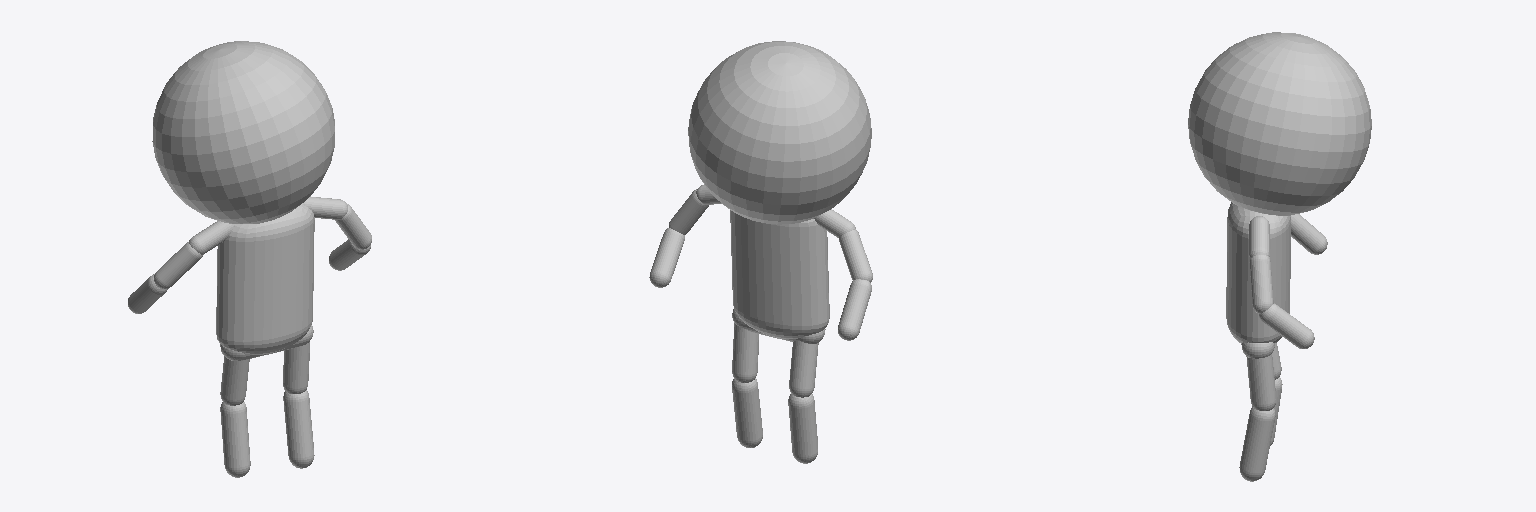
File: Stickman_000062.obj
3 renders of one model, left to right at view 1: azimuth 30°, elevation 25°; view 2: azimuth 150°, elevation 25°; view 3: azimuth 270°, elevation 25°, orthographic.
Parts seen in each view (by area): view 1: Head_Sphere.001, Body_Roundcube.002, LowerLegLeft_Roundcube.013, LowerLegRight_Roundcube.011, UpperLegLeft_Roundcube.012, UpperLegRight_Roundcube.010, UpperArmRight_Roundcube.015, ShoulderRight_Roundcube.014, UpperArmLeft_Roundcube.018, LowerArmRight_Roundcube.016, ShoulderLeft_Roundcube.017, LowerArmLeft_Roundcube.019; view 2: Head_Sphere.001, Body_Roundcube.002, LowerLegRight_Roundcube.011, LowerLegLeft_Roundcube.013, UpperLegRight_Roundcube.010, LowerArmRight_Roundcube.016, UpperLegLeft_Roundcube.012, LowerArmLeft_Roundcube.019, UpperArmRight_Roundcube.015, UpperArmLeft_Roundcube.018, ShoulderRight_Roundcube.014; view 3: Head_Sphere.001, Body_Roundcube.002, LowerLegLeft_Roundcube.013, UpperLegLeft_Roundcube.012, LowerArmLeft_Roundcube.019, UpperArmLeft_Roundcube.018, LowerArmRight_Roundcube.016, ShoulderLeft_Roundcube.017.
Boxes of the visible parts, x1=… form: Head_Sphere.001: x1=152, y1=41, x2=334, y2=223; Body_Roundcube.002: x1=216, y1=203, x2=314, y2=354; LowerLegLeft_Roundcube.013: x1=283, y1=390, x2=314, y2=468; LowerLegRight_Roundcube.011: x1=220, y1=402, x2=250, y2=477; UpperLegLeft_Roundcube.012: x1=283, y1=342, x2=309, y2=393; UpperLegRight_Roundcube.010: x1=220, y1=356, x2=249, y2=405; UpperArmRight_Roundcube.015: x1=154, y1=242, x2=202, y2=288; ShoulderRight_Roundcube.014: x1=189, y1=221, x2=235, y2=254; UpperArmLeft_Roundcube.018: x1=335, y1=204, x2=371, y2=249; LowerArmRight_Roundcube.016: x1=128, y1=274, x2=167, y2=313; ShoulderLeft_Roundcube.017: x1=303, y1=196, x2=347, y2=219; LowerArmLeft_Roundcube.019: x1=329, y1=239, x2=370, y2=270; Head_Sphere.001: x1=688, y1=41, x2=871, y2=224; Body_Roundcube.002: x1=730, y1=210, x2=829, y2=338; LowerLegRight_Roundcube.011: x1=788, y1=394, x2=817, y2=463; LowerLegLeft_Roundcube.013: x1=732, y1=378, x2=762, y2=447; UpperLegRight_Roundcube.010: x1=789, y1=341, x2=818, y2=397; LowerArmRight_Roundcube.016: x1=838, y1=279, x2=871, y2=340; UpperLegLeft_Roundcube.012: x1=732, y1=323, x2=758, y2=382; LowerArmLeft_Roundcube.019: x1=649, y1=228, x2=684, y2=287; UpperArmRight_Roundcube.015: x1=839, y1=229, x2=872, y2=282; UpperArmLeft_Roundcube.018: x1=669, y1=189, x2=708, y2=234; ShoulderRight_Roundcube.014: x1=814, y1=209, x2=855, y2=237; Head_Sphere.001: x1=1188, y1=32, x2=1371, y2=215; Body_Roundcube.002: x1=1226, y1=202, x2=1290, y2=343; LowerLegLeft_Roundcube.013: x1=1239, y1=407, x2=1275, y2=481; UpperLegLeft_Roundcube.012: x1=1246, y1=354, x2=1275, y2=410; LowerArmLeft_Roundcube.019: x1=1259, y1=303, x2=1314, y2=348; UpperArmLeft_Roundcube.018: x1=1249, y1=255, x2=1273, y2=313; LowerArmRight_Roundcube.016: x1=1291, y1=214, x2=1327, y2=254; ShoulderLeft_Roundcube.017: x1=1249, y1=216, x2=1269, y2=257.
Size of the model in its own units: 6.78 by 12.48 by 4.98.